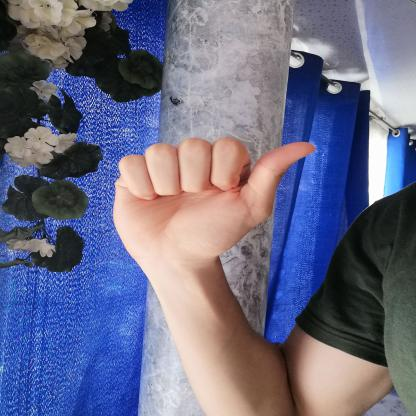DAD: (98, 126, 329, 278)
